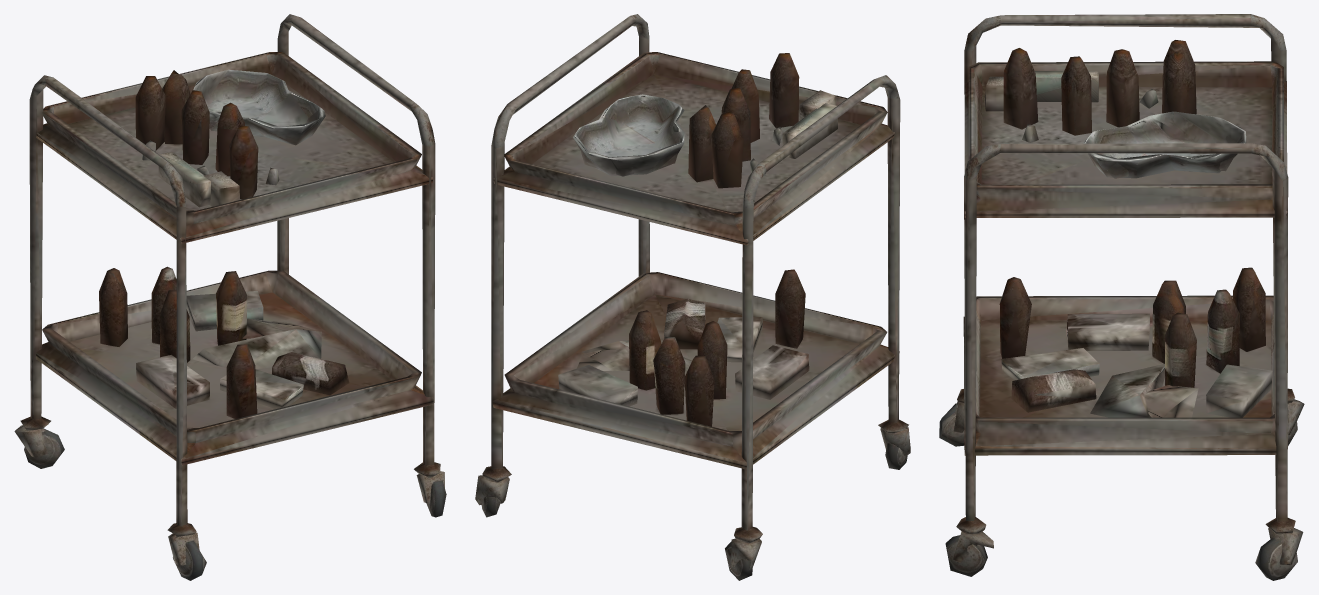
Rendered from cart.glb.
The picture shows the model from 3 angles, left to right: view 1: azimuth 30°, elevation 25°; view 2: azimuth 150°, elevation 25°; view 3: azimuth 270°, elevation 25°; orthographic projection. The views are drawn at different scales.
Size of the model in its own units: 0.7252 by 0.9979 by 0.7536.
1 material, 1 textured.
